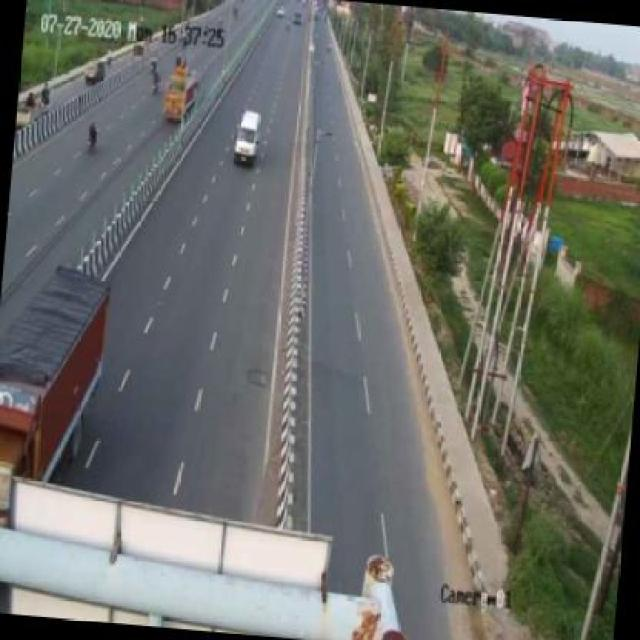car: (230, 112, 268, 165)
